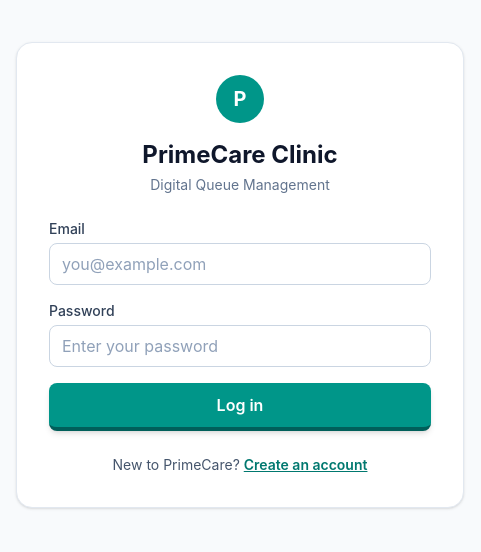
Login › shows server errors in the form error box
Type "patient@example.com" into the field labelled "Email" at (240, 264), box [49,243,431,285]
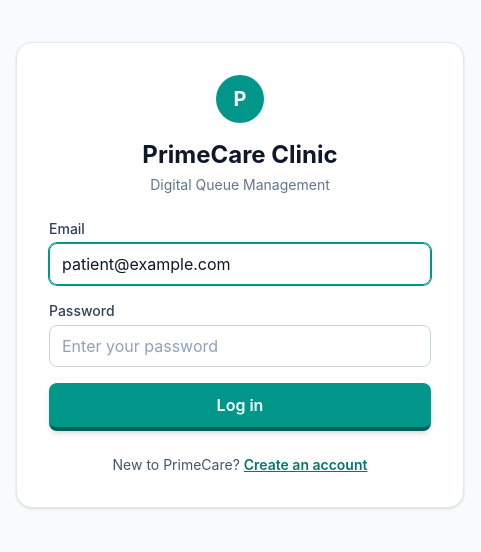
Type "wrong-pass" into the password field labelled "Password" at (240, 346), box [49,325,431,367]
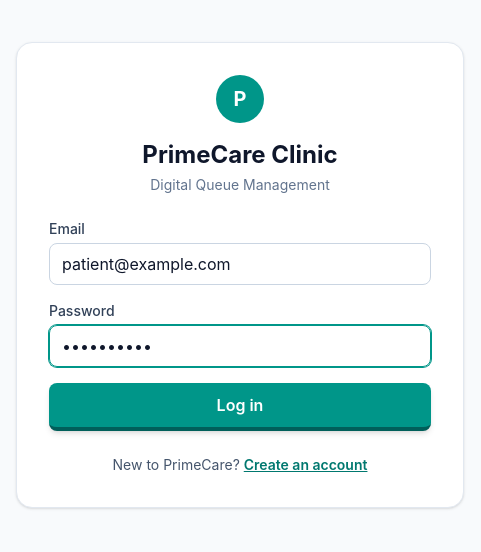
Click the button "Log in" at (240, 407), box [49,383,431,431]
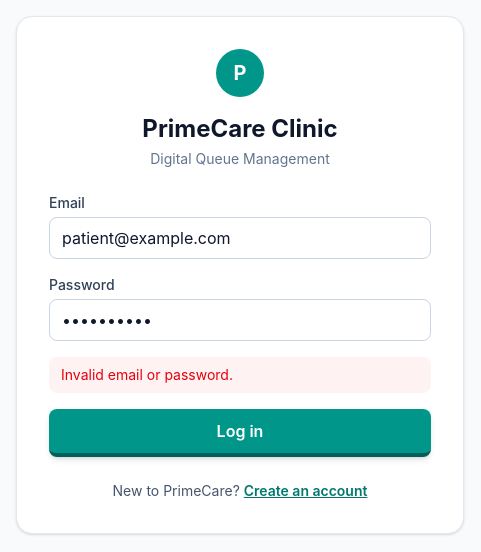
Expected: the button "Log in" is enabled, [49,409,431,457]
Expected: the message reads "Invalid email or password.", [61,366,233,383]
